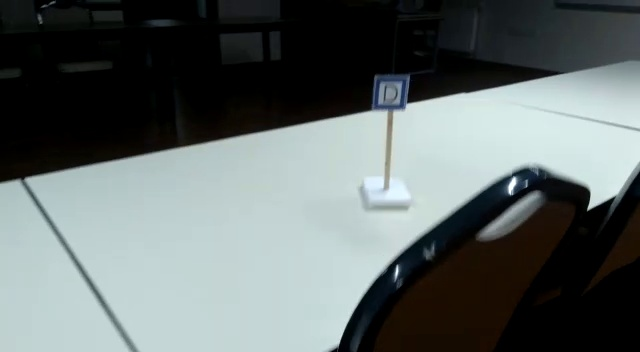durak: (372, 76, 406, 108)
